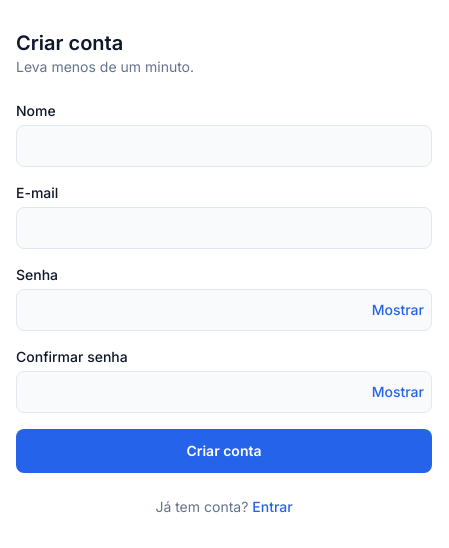
Test: Cadastro › apos cadastro bem-sucedido, mostra a tela de confirmacao com o e-mail usado
Step 1. Type "Samuel De Marco" into the field labelled "Nome" → (224, 146), box [16,125,432,167]
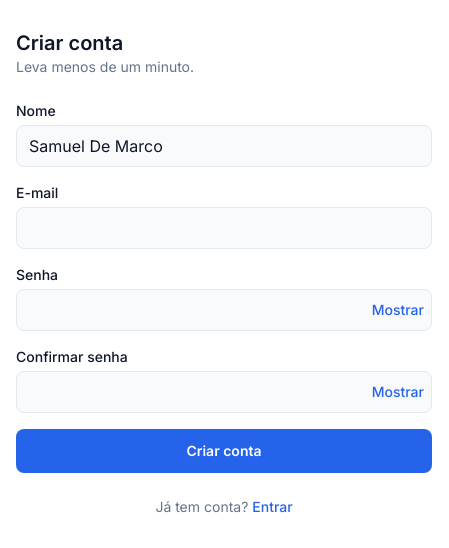
Step 2. Type "samuel@exemplo.com" into the field labelled "E-mail" → (224, 228), box [16,207,432,249]
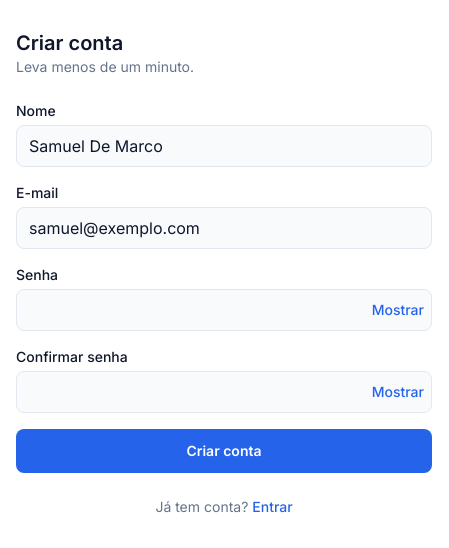
Step 3. Type "SenhaForte@2026" into the password field labelled "Senha" → (224, 310), box [16,289,432,331]
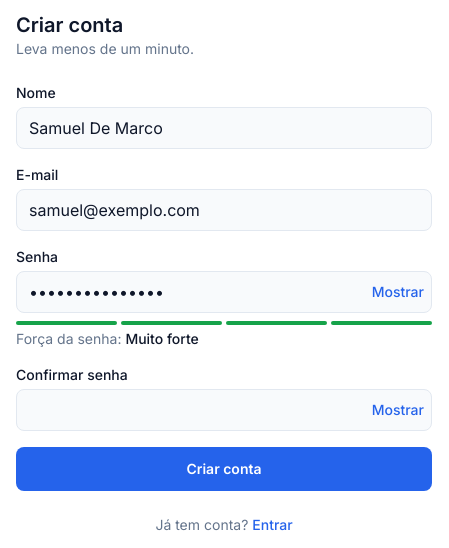
Step 4. Type "SenhaForte@2026" into the password field labelled "Confirmar senha" → (224, 410), box [16,389,432,431]
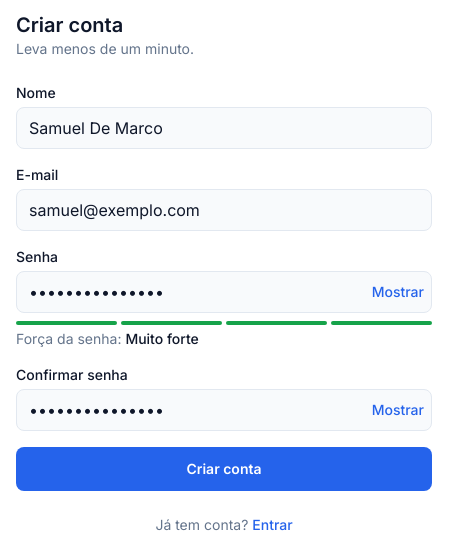
Step 5. Click the button "Criar conta" → click(224, 469), box [16,447,432,491]
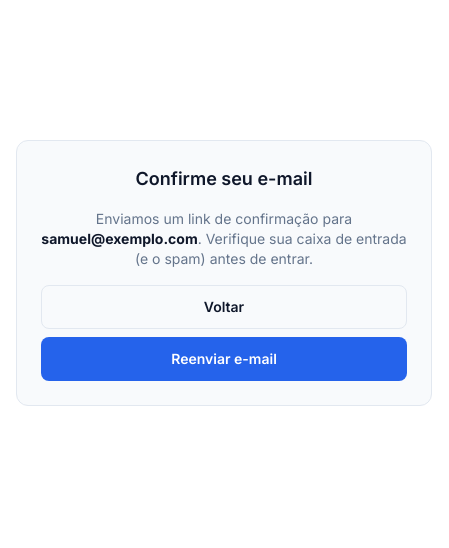
Expected: the text "samuel@exemplo.com" is shown, [41,230,198,247]
